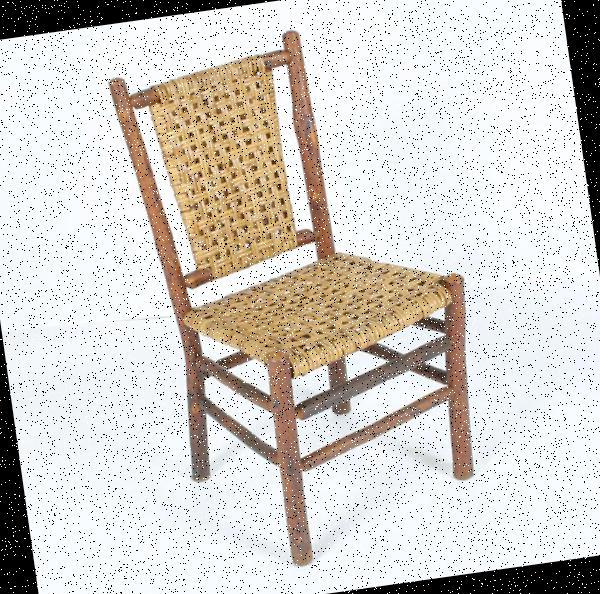Silla: (103, 23, 500, 581)
